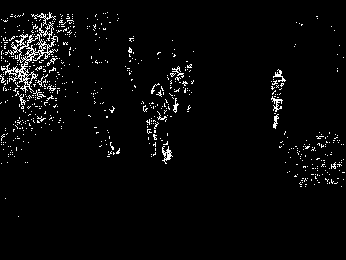person: (142, 82, 174, 162), (270, 67, 286, 132), (166, 62, 183, 111)
